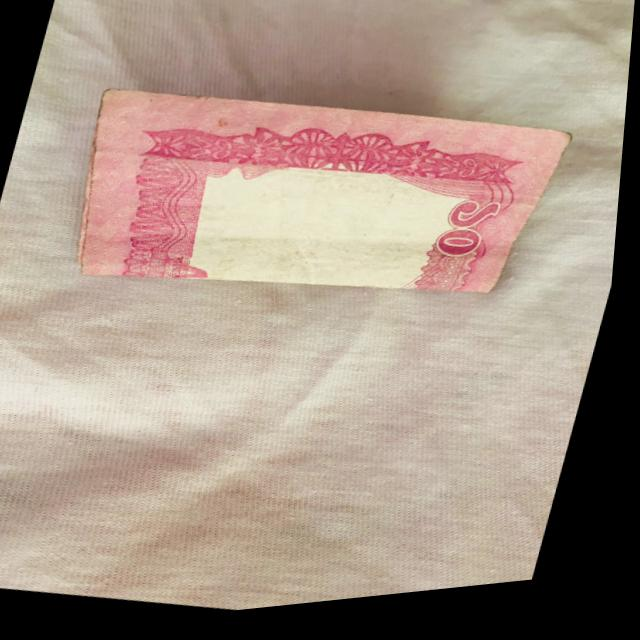Taka: (36, 27, 591, 372)
